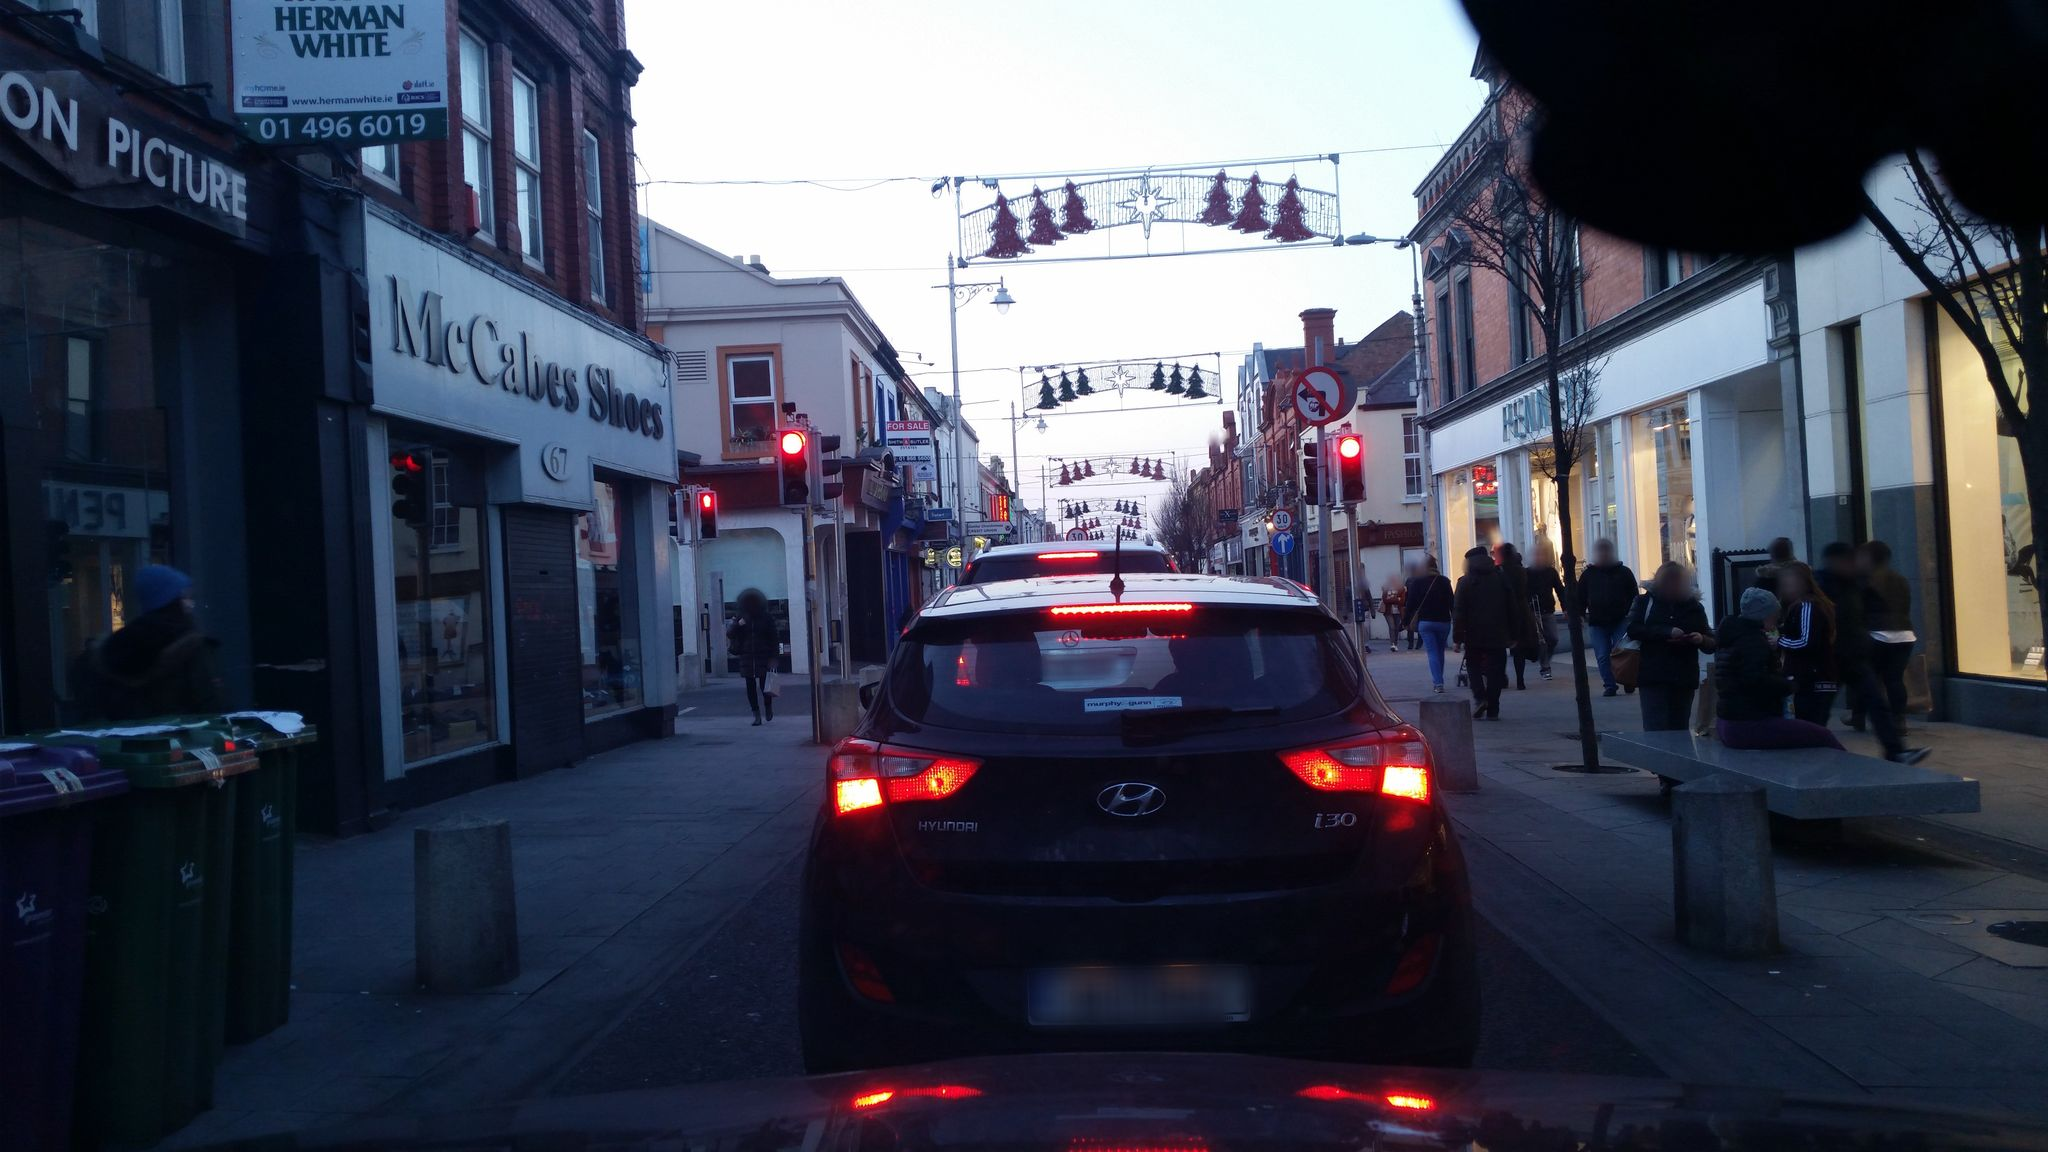property sign: (226, 1, 489, 160), (865, 401, 945, 480)
